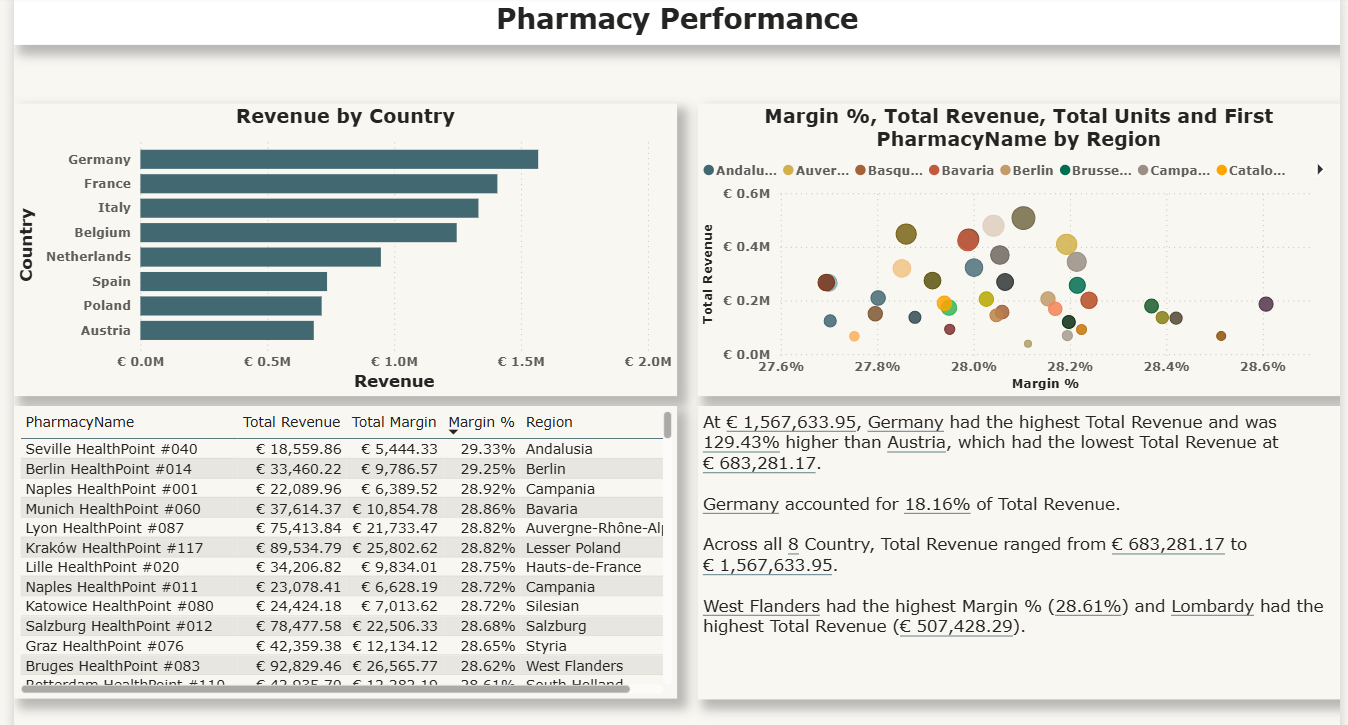

Layout of this report page (visuals, bound fields, positions):
{"tool":"powerbi","page":{"name":"Page 2","canvas":[1280,720],"ordinal":1},"visuals":[{"type":"textbox","box":[0,0,1280,47.5],"z":0},{"type":"clusteredBarChart","title":"Revenue by Country","fields":{"Category":["DimPharmacy.Country","DimPharmacy.Region","DimPharmacy.PharmacyName"],"Y":["All Measures.Total Revenue"]},"box":[0,103.8,640,282.5],"z":1000},{"type":"scatterChart","fields":{"Size":["All Measures.Total Units"],"Series":["DimPharmacy.Region"],"X":["All Measures.Margin %"],"Y":["All Measures.Total Revenue"]},"box":[660,103.8,620,282.5],"z":2000},{"type":"tableEx","fields":{"Values":["DimPharmacy.PharmacyName","All Measures.Total Revenue","All Measures.Total Margin","All Measures.Margin %","DimPharmacy.Region"]},"box":[0,396.2,640,282.5],"z":3000},{"type":"textbox","box":[660,396,620,283],"z":4000}]}

Visuals, with their boxes on the page's 1280x720 design canvas (x1, y1, x2, y2). These are canvas units, not pixel positions in the 1348x725 screenshot, which may show the page scaled, cropped or inside an application window:
textbox: (0,0,1280,48)
"Revenue by Country" clusteredBarChart: (0,104,640,386)
scatterChart - All Measures.Total Units x DimPharmacy.Region: (660,104,1280,386)
tableEx - DimPharmacy.PharmacyName x All Measures.Total Revenue: (0,396,640,679)
textbox: (660,396,1280,679)
